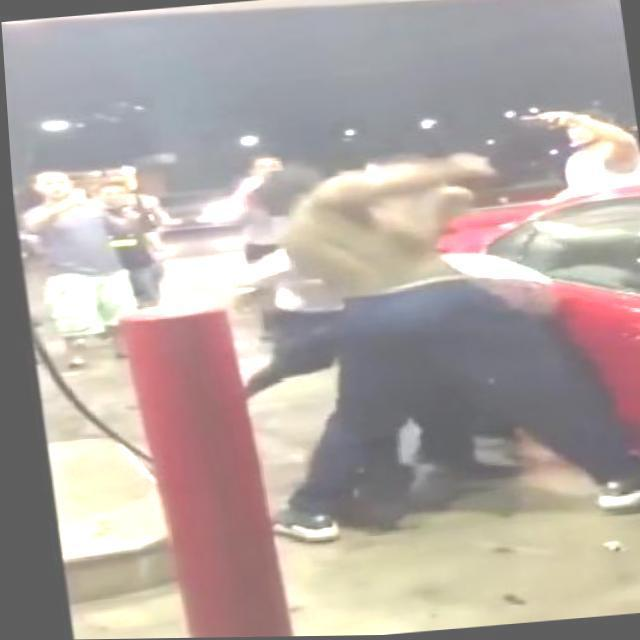fight: (225, 136, 610, 542)
